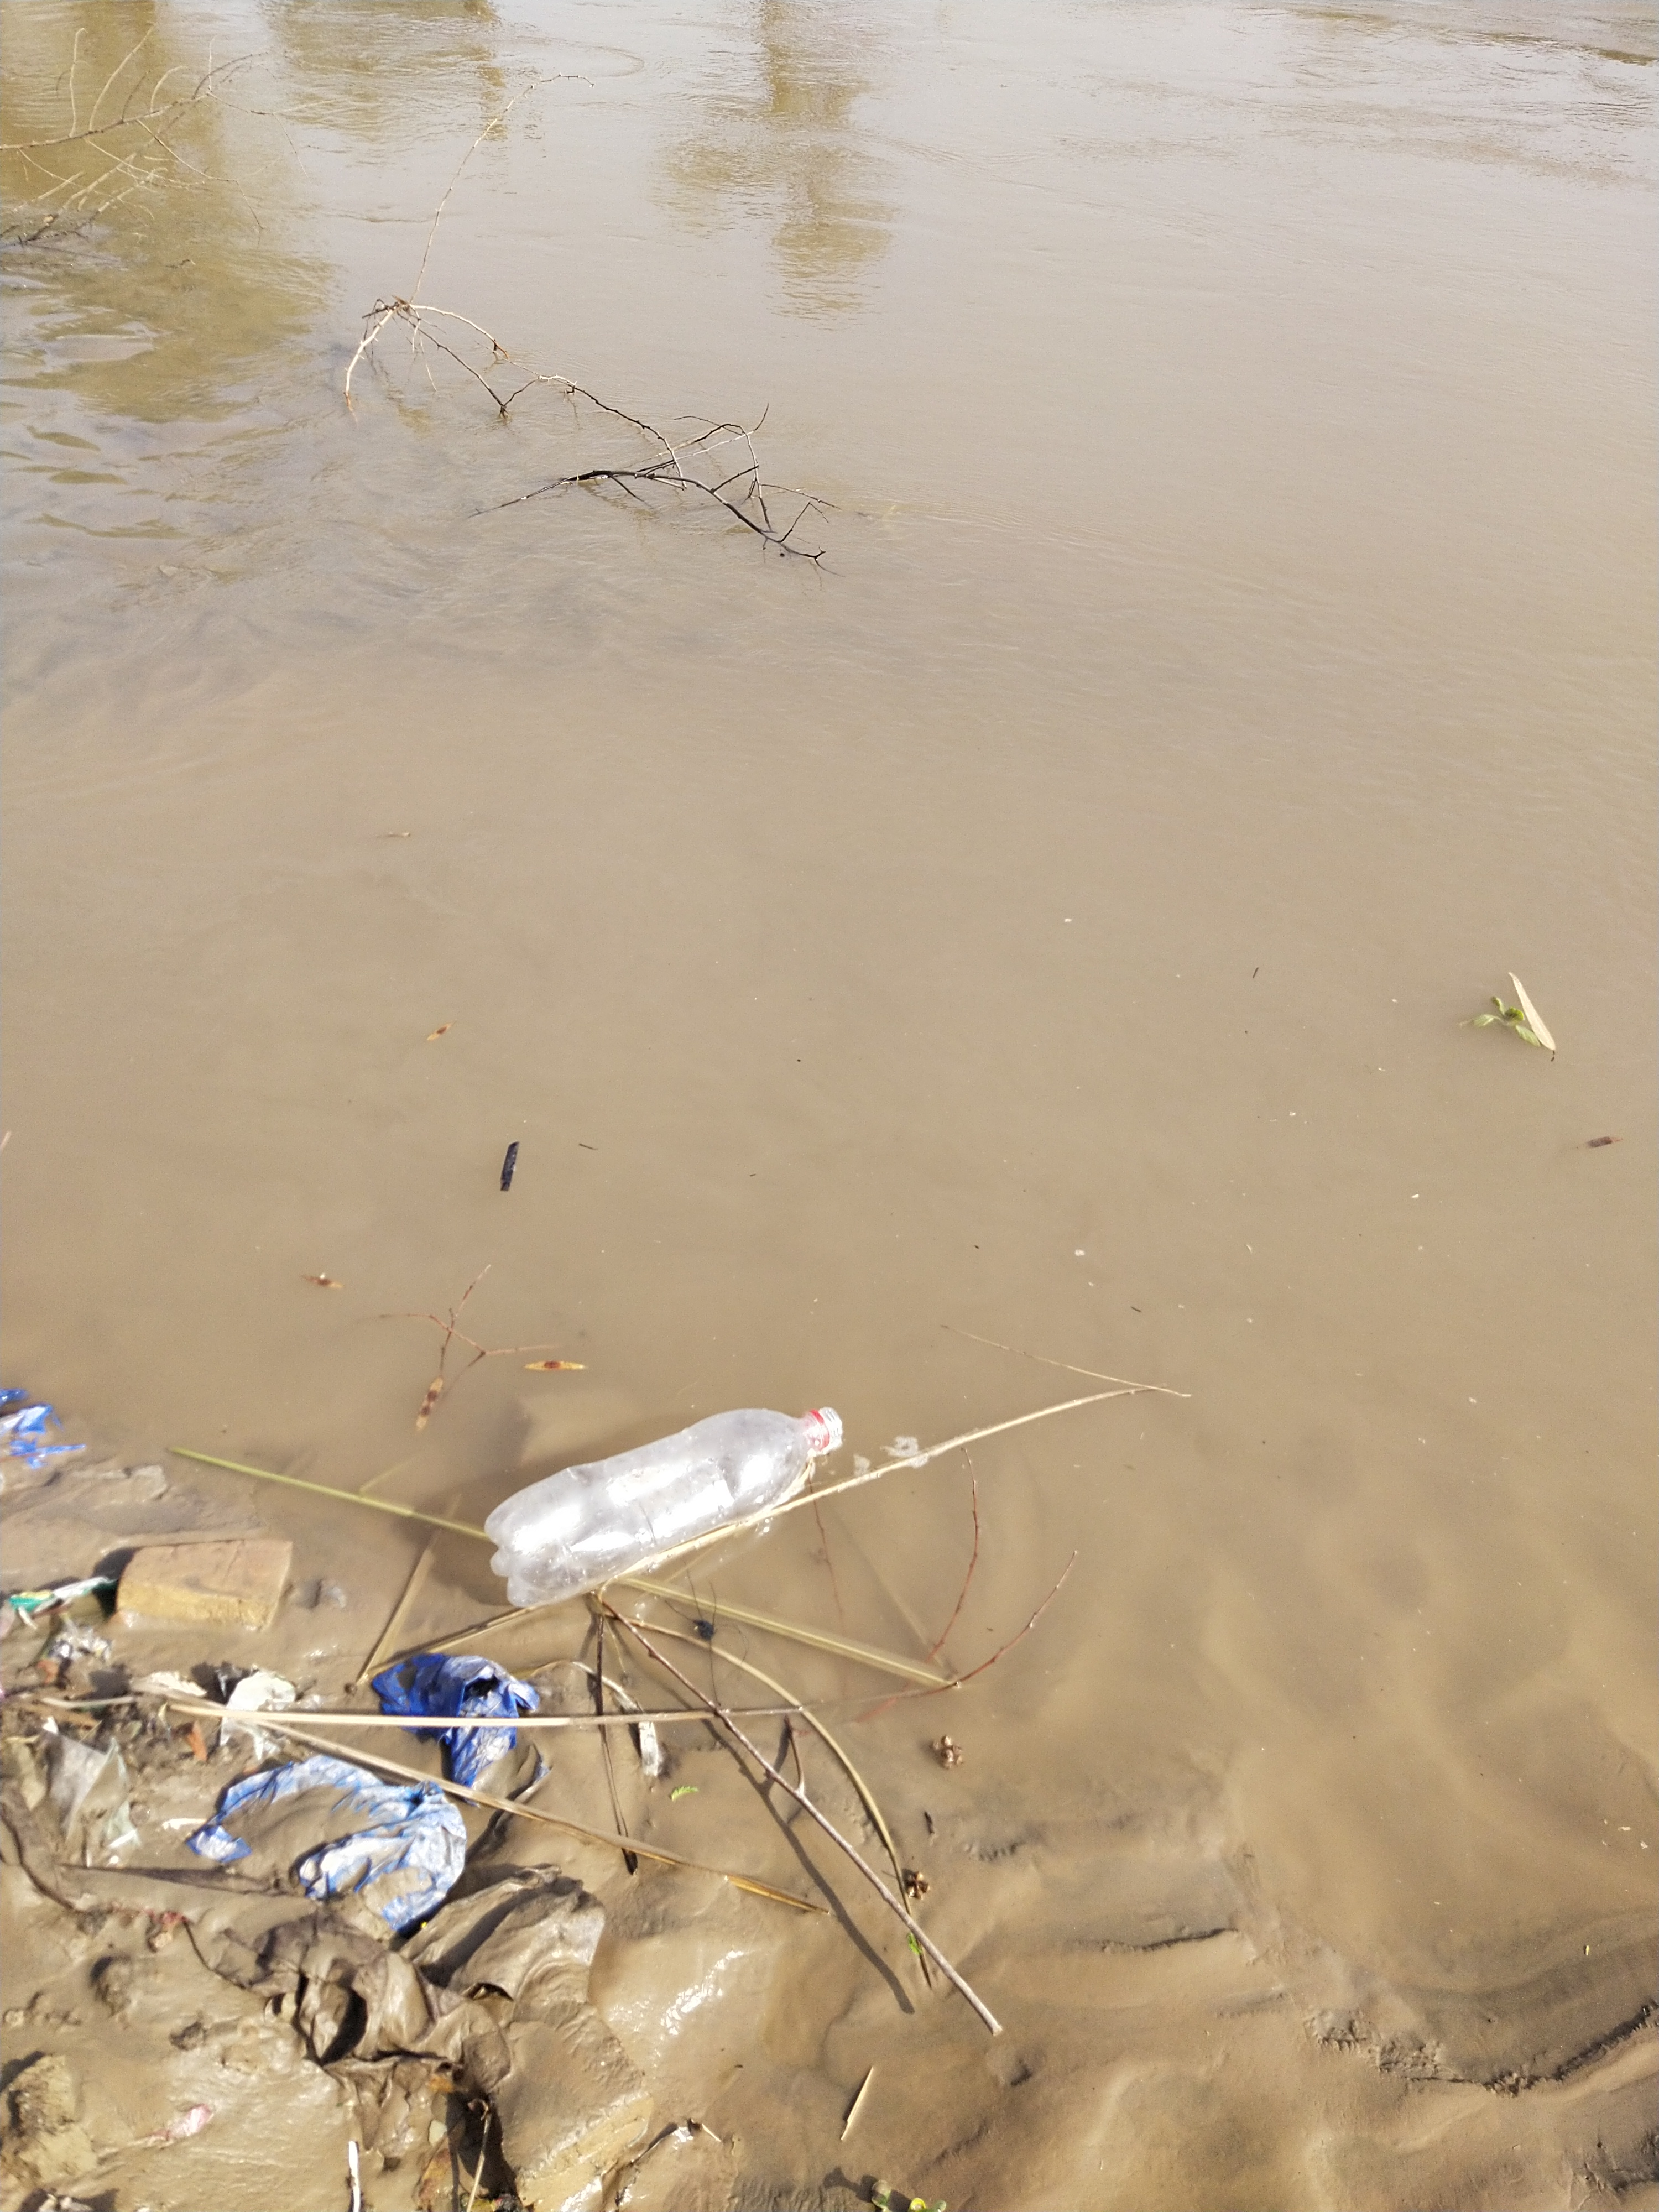Plastic Bottle: (484, 1407, 843, 1608)
